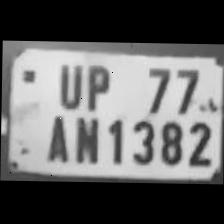1: (100, 113, 127, 165)
2: (182, 115, 213, 168)
3: (126, 114, 156, 165)
7: (139, 62, 170, 113), (169, 64, 200, 114)
8: (154, 114, 184, 166)
A: (39, 110, 72, 162)
N: (68, 111, 101, 164)
P: (79, 59, 112, 112)
U: (52, 57, 83, 110)
